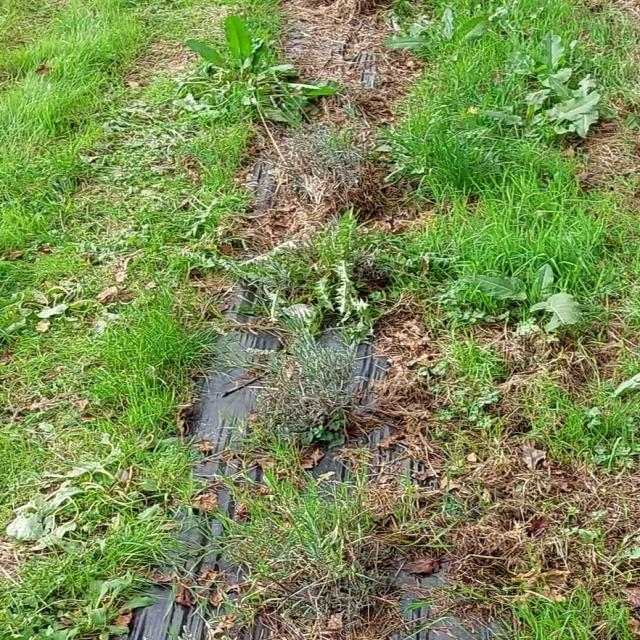organic waste: (156, 12, 361, 121), (462, 248, 613, 342), (1, 468, 147, 558), (386, 0, 498, 73), (491, 27, 593, 101), (525, 72, 624, 146), (12, 263, 86, 332), (485, 90, 571, 144)
